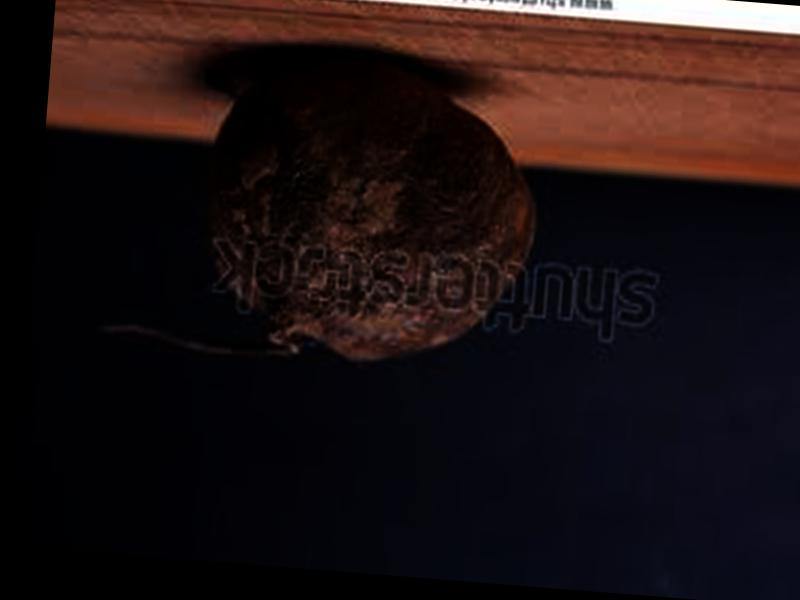Beet: (90, 40, 546, 380)
